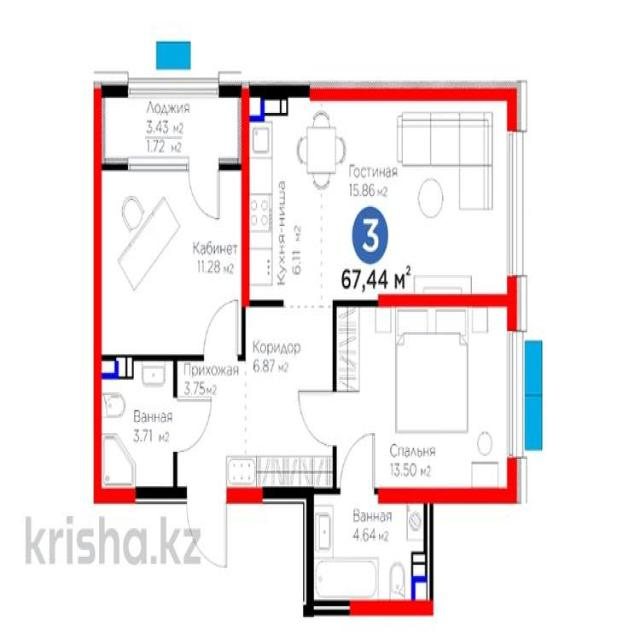balcony: (96, 95, 240, 167)
bathroom: (312, 496, 428, 612), (99, 361, 176, 498)
hallway: (244, 302, 336, 493), (178, 358, 242, 494)
living_room: (334, 302, 510, 490), (97, 168, 245, 362)
studio: (245, 93, 514, 302)
